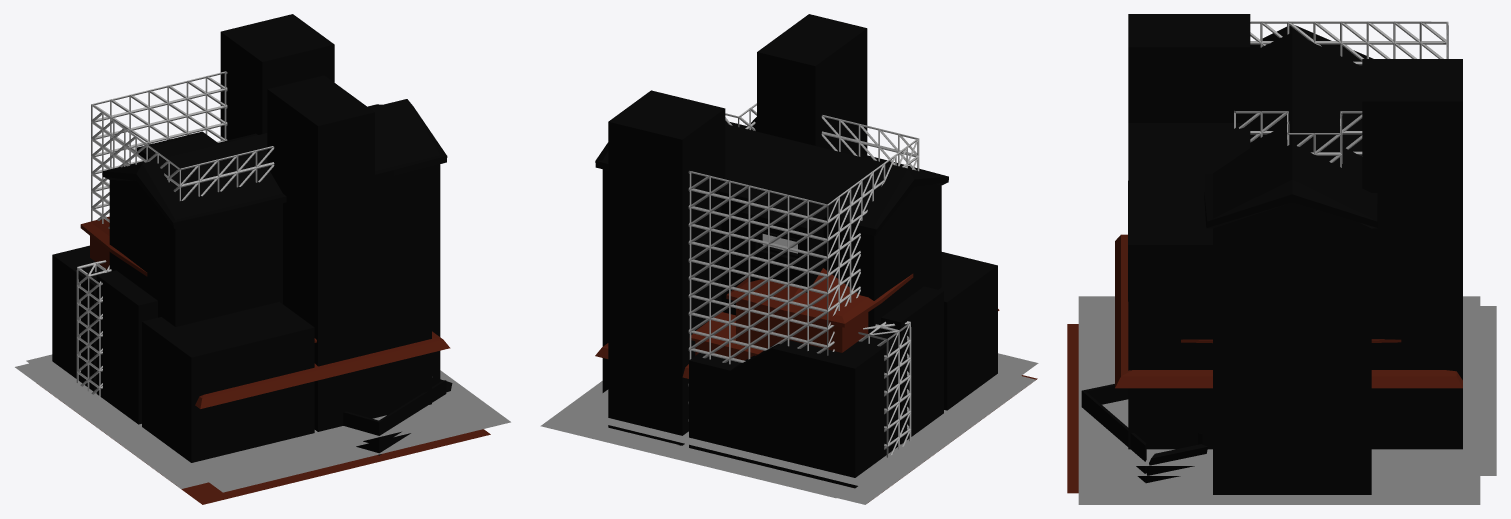
File: blockLibrary.glb
3 renders of one model, left to right at view 1: azimuth 30°, elevation 25°; view 2: azimuth 150°, elevation 25°; view 3: azimuth 270°, elevation 25°, orthographic. The views are drawn at different scales.
Visible parts, largest first — view 1: placeholderBlock, apartment building, construction site, supermarket; view 2: placeholderBlock, apartment building, construction site, supermarket; view 3: placeholderBlock, apartment building, supermarket, construction site.
Boxes of the visible parts, bbox=[...] form: placeholderBlock: bbox=[15, 14, 469, 488]; apartment building: bbox=[102, 99, 510, 492]; construction site: bbox=[40, 71, 490, 504]; supermarket: bbox=[26, 216, 480, 482]; placeholderBlock: bbox=[569, 14, 1035, 504]; apartment building: bbox=[540, 121, 948, 498]; construction site: bbox=[670, 103, 1037, 502]; supermarket: bbox=[572, 268, 1038, 488]; placeholderBlock: bbox=[1095, 14, 1496, 475]; apartment building: bbox=[1078, 25, 1480, 504]; supermarket: bbox=[1078, 234, 1480, 465]; construction site: bbox=[1067, 21, 1448, 493].
Size of the model in its own units: 49.35 by 47.98 by 47.06.
